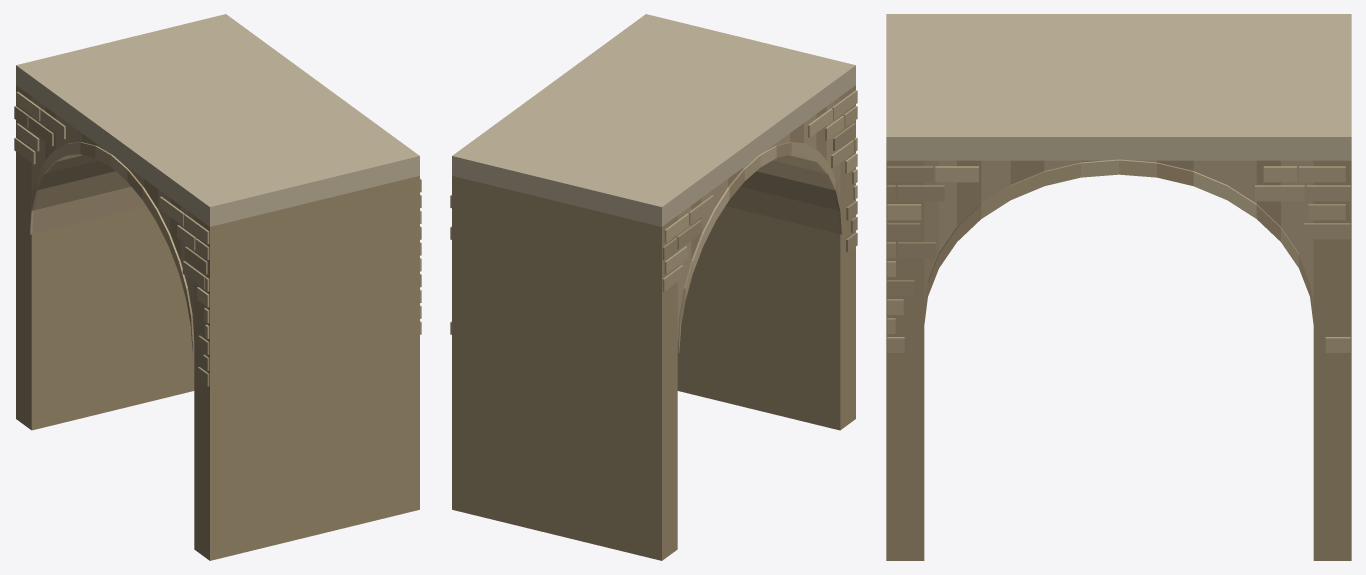
Rendered from bridge-stone-8.glb.
3 renders of one model, left to right at view 1: azimuth 30°, elevation 25°; view 2: azimuth 150°, elevation 25°; view 3: azimuth 270°, elevation 25°, orthographic. The views are drawn at different scales.
Visible parts, largest first — view 1: Pier 02 | bank foundation, Deck | pale paving, Pier 01 | bank foundation, Arch 01 | vault 15, Arch 01 | vault 14, Arch 01 | vault 13, Arch 01 | vault 12; view 2: Pier 01 | bank foundation, Deck | pale paving, Pier 02 | bank foundation, Arch 01 | vault 00, Arch 01 | vault 01, Arch 01 | vault 02, Arch 01 | vault 03; view 3: Deck | pale paving, Pier 01 | bank foundation, Pier 02 | bank foundation, Arch 01 | vault 02, Arch 01 | vault 03, Arch 01 | vault 04, Arch 01 | vault 11, Arch 01 | vault 13, Masonry | weathered facing.024, Masonry | weathered facing.025, Masonry | weathered facing.029, Arch 01 | vault 01 (+17 smaller).
Part boxes in pixels (bbox=[...]): Pier 02 | bank foundation: bbox=[194, 176, 419, 560]; Deck | pale paving: bbox=[16, 14, 419, 226]; Pier 01 | bank foundation: bbox=[16, 85, 194, 430]; Arch 01 | vault 15: bbox=[31, 97, 145, 233]; Arch 01 | vault 14: bbox=[33, 98, 130, 210]; Arch 01 | vault 13: bbox=[38, 101, 115, 189]; Arch 01 | vault 12: bbox=[45, 106, 98, 173]; Pier 01 | bank foundation: bbox=[452, 176, 677, 560]; Deck | pale paving: bbox=[452, 14, 855, 226]; Pier 02 | bank foundation: bbox=[677, 85, 855, 430]; Arch 01 | vault 00: bbox=[726, 97, 840, 233]; Arch 01 | vault 01: bbox=[741, 98, 838, 210]; Arch 01 | vault 02: bbox=[756, 101, 833, 189]; Arch 01 | vault 03: bbox=[773, 106, 826, 173]; Deck | pale paving: bbox=[886, 14, 1351, 160]; Pier 01 | bank foundation: bbox=[1313, 160, 1351, 560]; Pier 02 | bank foundation: bbox=[886, 160, 924, 560]; Arch 01 | vault 02: bbox=[939, 160, 956, 252]; Arch 01 | vault 03: bbox=[957, 160, 981, 226]; Arch 01 | vault 04: bbox=[981, 160, 1010, 203]; Arch 01 | vault 11: bbox=[1227, 160, 1256, 203]; Arch 01 | vault 13: bbox=[1281, 160, 1298, 252]; Masonry | weathered facing.024: bbox=[1255, 185, 1304, 201]; Masonry | weathered facing.025: bbox=[897, 185, 944, 201]; Masonry | weathered facing.029: bbox=[1303, 223, 1350, 239]; Arch 01 | vault 01: bbox=[928, 160, 938, 280].
Bounding box in the file's own units: 5.1 × 8.05 × 8.
